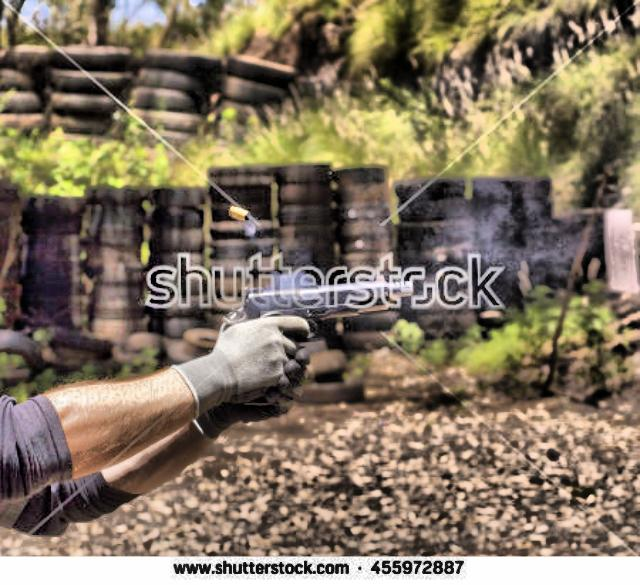pistol: (234, 278, 411, 406)
